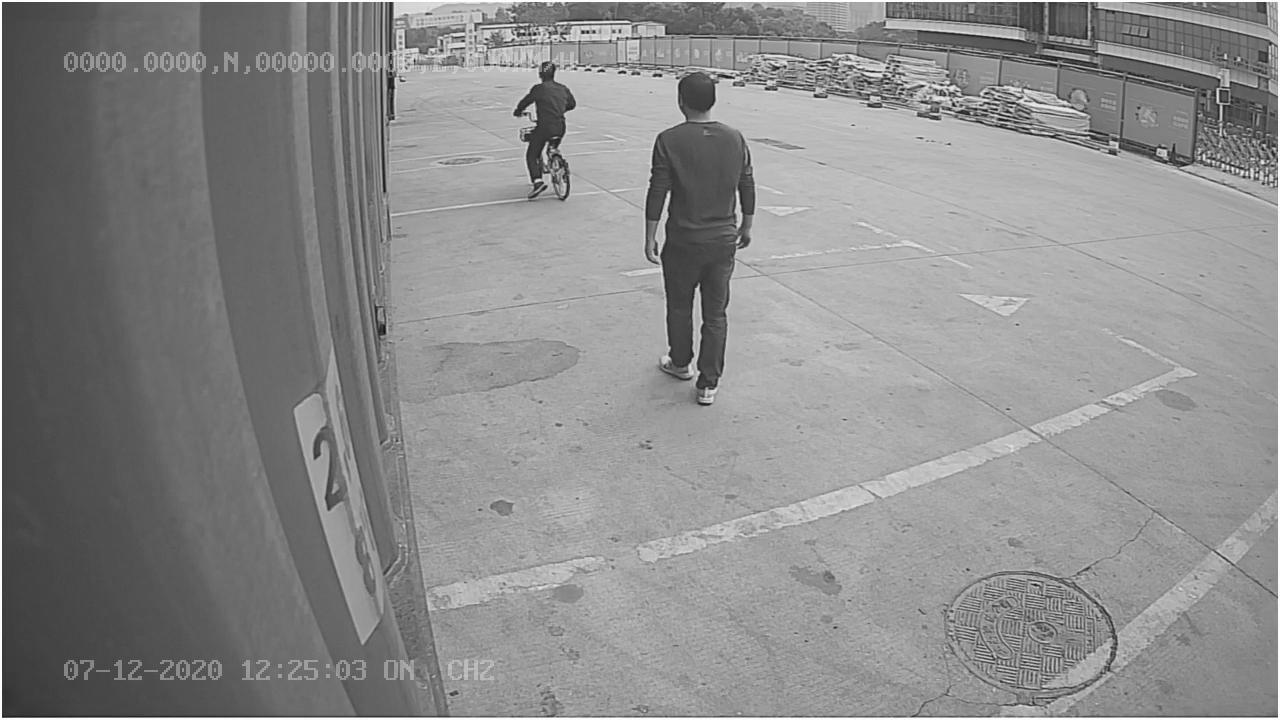person: (640, 69, 759, 408)
